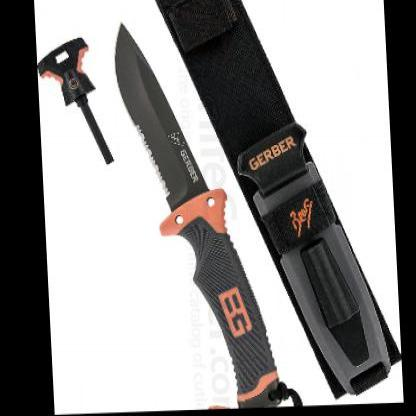knife: (104, 15, 205, 216)
